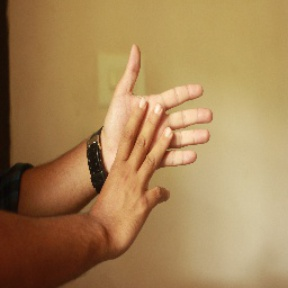M: (88, 43, 218, 223)
